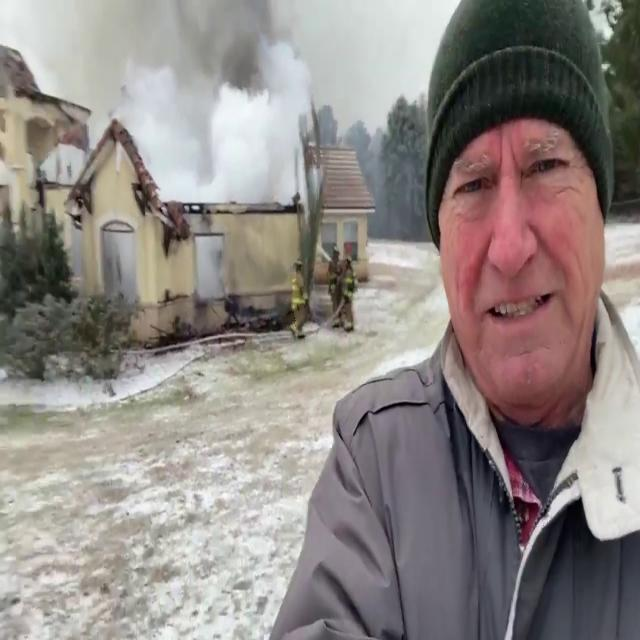Smoke: (51, 0, 332, 180)
